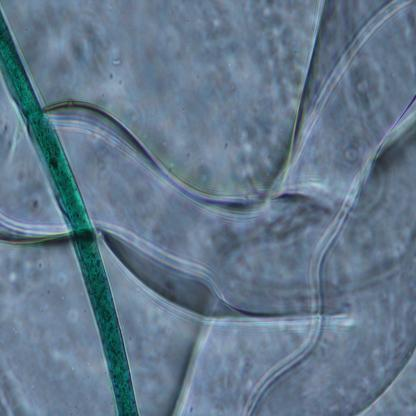Background material: (123, 0, 416, 414), (60, 87, 147, 184), (0, 170, 59, 258)
Microfibre: (0, 7, 137, 415)
